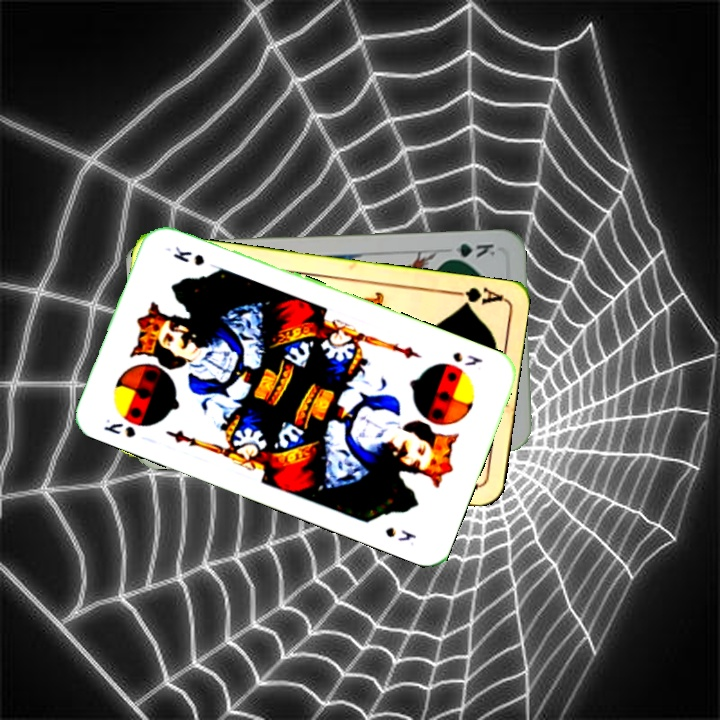GA: (444, 283, 504, 309)
GK: (441, 239, 498, 263)
SK: (99, 415, 138, 441), (448, 347, 486, 369)
